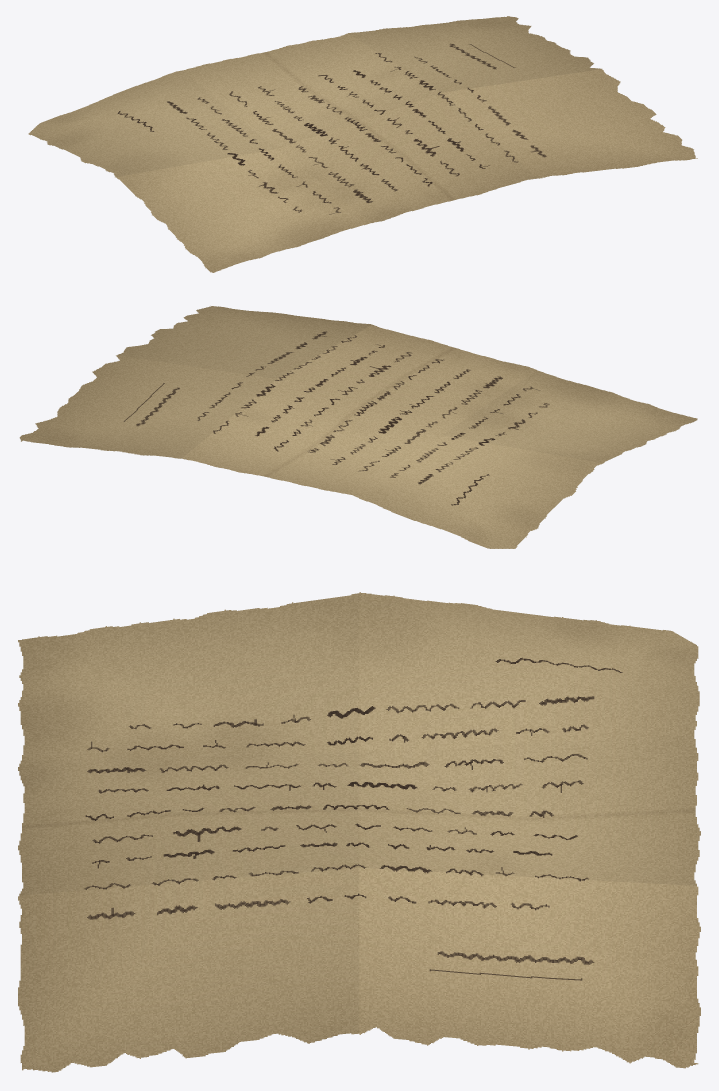
File: note.glb
3 renders of one model, top to bottom at view 1: azimuth 30°, elevation 25°; view 2: azimuth 150°, elevation 25°; view 3: azimuth 270°, elevation 25°, orthographic. The views are drawn at different scales.
Parts seen in each view (by area): view 1: Plane; view 2: Plane; view 3: Plane.
Boxes of the visible parts, x1,y1,x2,y2 form: Plane: (28,16,697,272); Plane: (19,306,697,548); Plane: (18,592,700,1072).
Size of the model in its own units: 0.31 by 0.0218 by 0.21.
1 material, 1 textured.
